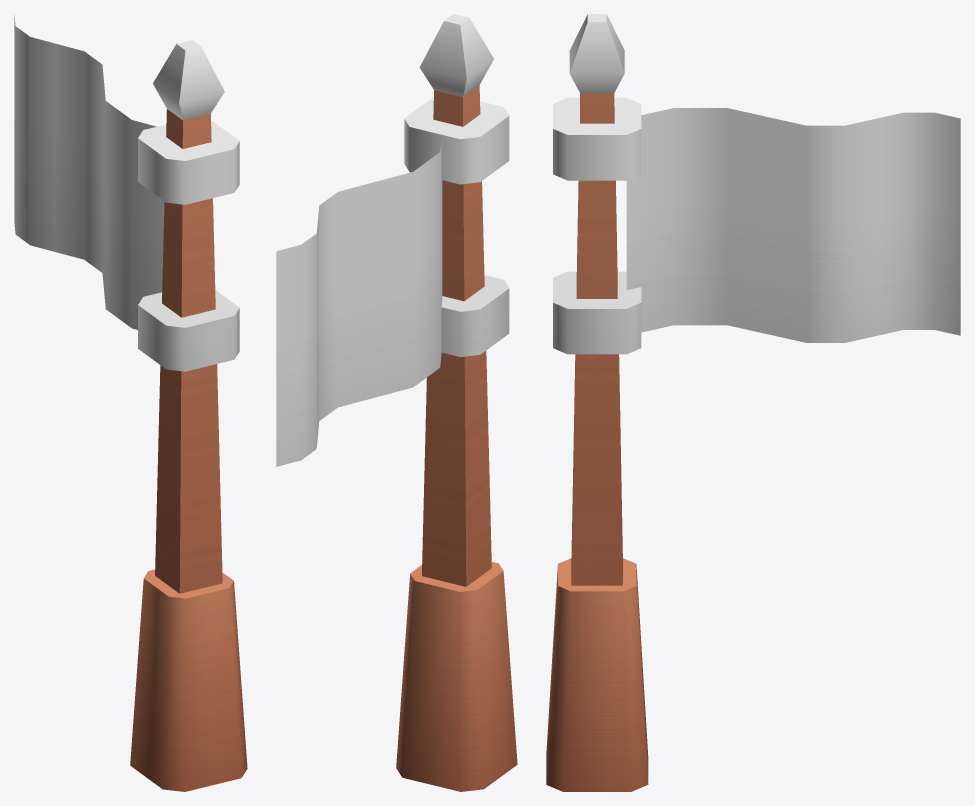
File: flag.glb
3 views of the same model, side by side, from view 1: azimuth 30°, elevation 25°; view 2: azimuth 150°, elevation 25°; view 3: azimuth 270°, elevation 25° (orthographic). The views are drawn at different scales.
Visible parts, largest first — view 1: flag; view 2: flag; view 3: flag.
Part boxes in pixels (x1,y1,x2,y2): flag: [14, 15, 247, 791]; flag: [276, 14, 517, 791]; flag: [546, 14, 960, 791].
Bounding box in the file's own units: 0.1064 × 0.8656 × 0.4323.
Materials: 2 (2 with a texture image).
